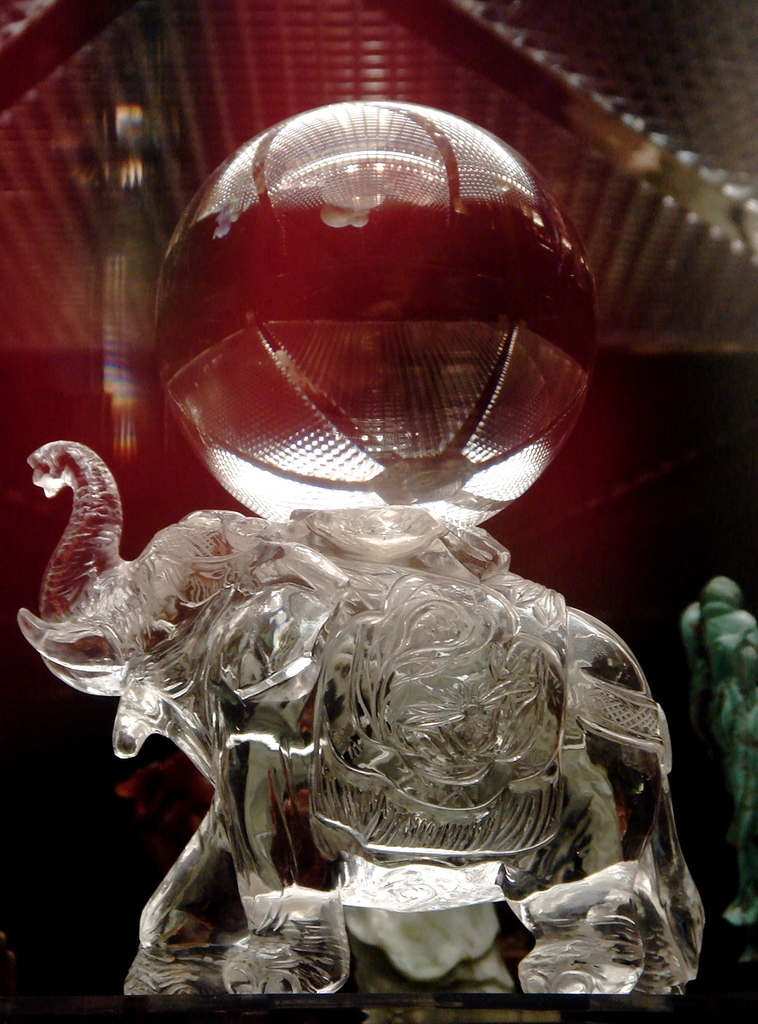Ball: (153, 98, 601, 533)
